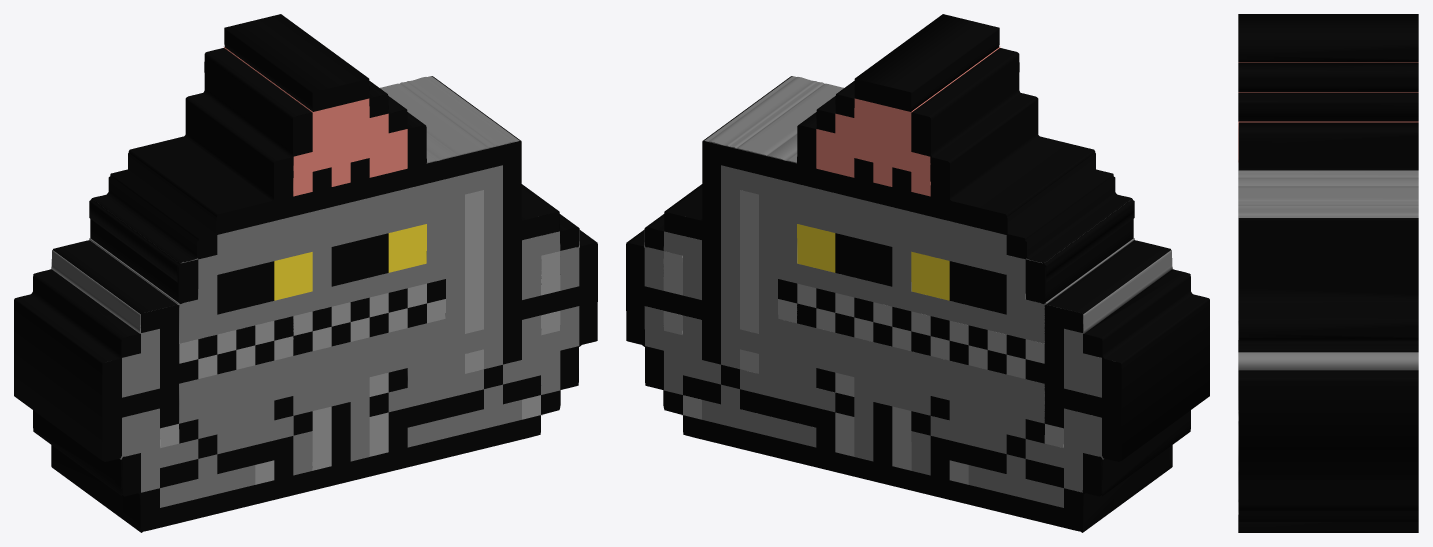
File: Toadz_4274.glb
3 renders of one model, left to right at view 1: azimuth 30°, elevation 25°; view 2: azimuth 150°, elevation 25°; view 3: azimuth 270°, elevation 25°, orthographic.
Parts seen in each view (by area): view 1: Curve; view 2: Curve; view 3: Curve.
Part boxes in pixels (bbox=[...]): Curve: bbox=[14, 14, 597, 532]; Curve: bbox=[626, 14, 1209, 532]; Curve: bbox=[1238, 14, 1418, 532].
Bounding box in the file's own units: 3.24 × 2.49 × 1.
